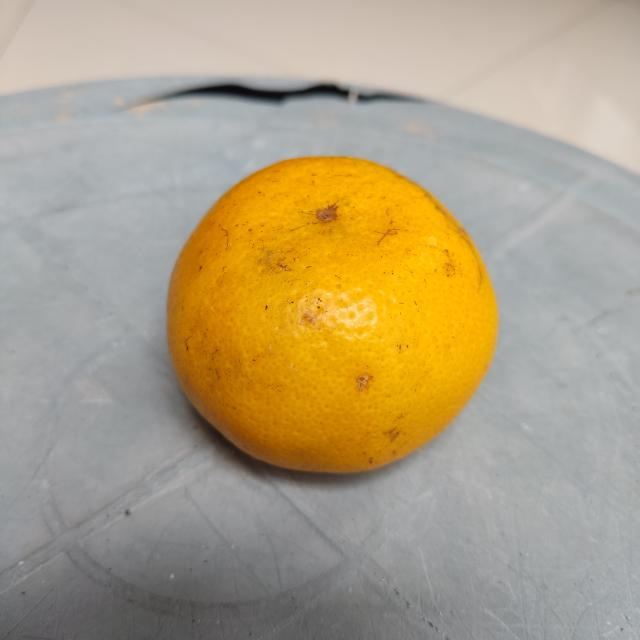orange: (160, 151, 502, 476)
